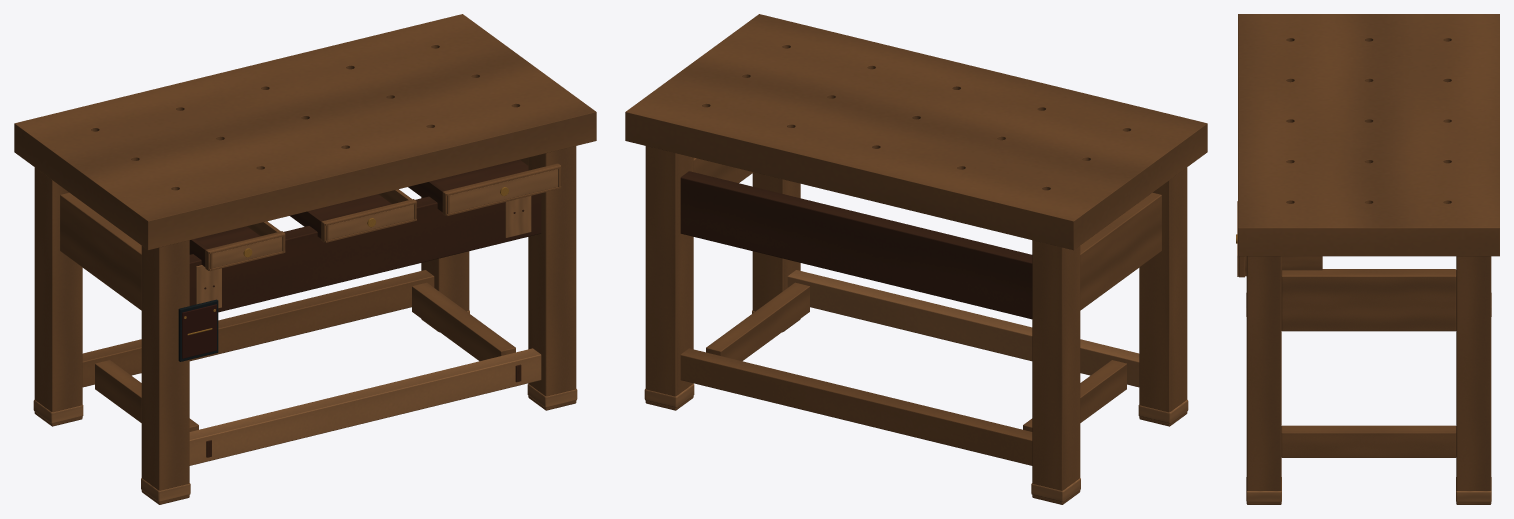
File: asset.glb
3 views of the same model, side by side, from view 1: azimuth 30°, elevation 25°; view 2: azimuth 150°, elevation 25°; view 3: azimuth 270°, elevation 25° (orthographic). The views are drawn at different scales.
Visible parts, largest first — view 1: MaterialBatch_Room_furniture_quarter-sawn_oak, MaterialBatch_Room_furniture_light_oak, MaterialBatch_Room_furniture_smoked_walnut, Workbench vise leather jaw; view 2: MaterialBatch_Room_furniture_quarter-sawn_oak, MaterialBatch_Room_furniture_smoked_walnut, MaterialBatch_Room_furniture_light_oak; view 3: MaterialBatch_Room_furniture_quarter-sawn_oak, MaterialBatch_Room_furniture_light_oak.
Boxes of the visible parts, x1,y1,x2,y2 form: MaterialBatch_Room_furniture_quarter-sawn_oak: (14,14,596,504); MaterialBatch_Room_furniture_light_oak: (33,169,577,502); MaterialBatch_Room_furniture_smoked_walnut: (189,159,541,457); Workbench vise leather jaw: (182,304,216,358); MaterialBatch_Room_furniture_quarter-sawn_oak: (625,14,1207,504); MaterialBatch_Room_furniture_smoked_walnut: (680,171,1032,319); MaterialBatch_Room_furniture_light_oak: (644,270,1188,502); MaterialBatch_Room_furniture_quarter-sawn_oak: (1237,14,1499,504); MaterialBatch_Room_furniture_light_oak: (1246,293,1491,502).
Size of the model in its own units: 58 by 36 by 30.23.
7 materials, 7 textured.
